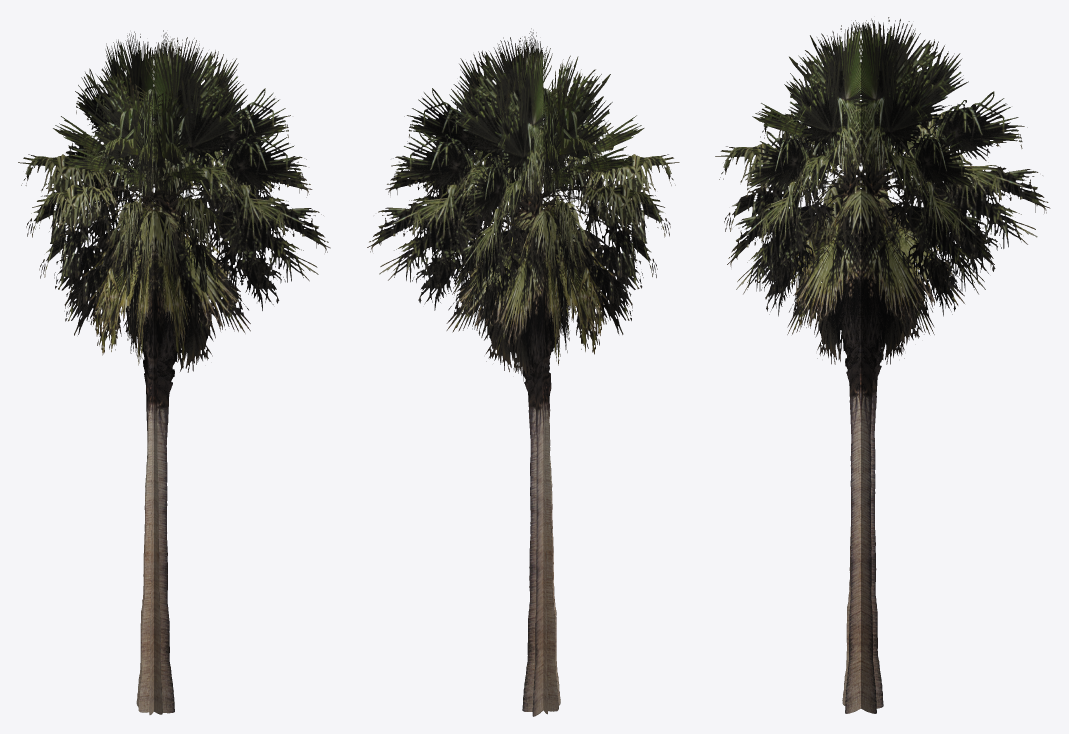
File: Was_Rob.obj
3 renders of one model, left to right at view 1: azimuth 30°, elevation 25°; view 2: azimuth 150°, elevation 25°; view 3: azimuth 270°, elevation 25°, orthographic. The views are drawn at different scales.
Parts seen in each view (by area): view 1: Mesh3 Component_2_3 Model, Mesh1 Component_2_1 Model, Mesh4 Component_2_4 Model, Mesh2 Component_2_2 Model; view 2: Mesh2 Component_2_2 Model, Mesh1 Component_2_1 Model, Mesh4 Component_2_4 Model, Mesh3 Component_2_3 Model; view 3: Mesh2 Component_2_2 Model, Mesh3 Component_2_3 Model, Mesh4 Component_2_4 Model.
Boxes of the visible parts, x1,y1,x2,y2 form: Mesh3 Component_2_3 Model: (18, 44, 330, 713); Mesh1 Component_2_1 Model: (32, 37, 312, 712); Mesh4 Component_2_4 Model: (66, 31, 224, 714); Mesh2 Component_2_2 Model: (118, 30, 196, 714); Mesh2 Component_2_2 Model: (367, 46, 679, 711); Mesh1 Component_2_1 Model: (385, 37, 664, 711); Mesh4 Component_2_4 Model: (452, 46, 613, 716); Mesh3 Component_2_3 Model: (508, 28, 579, 714); Mesh2 Component_2_2 Model: (758, 20, 994, 713); Mesh3 Component_2_3 Model: (727, 20, 952, 713); Mesh4 Component_2_4 Model: (715, 17, 1050, 708).
Bounding box in the file's own units: 278 × 621 × 278.
1 material, 1 textured.
